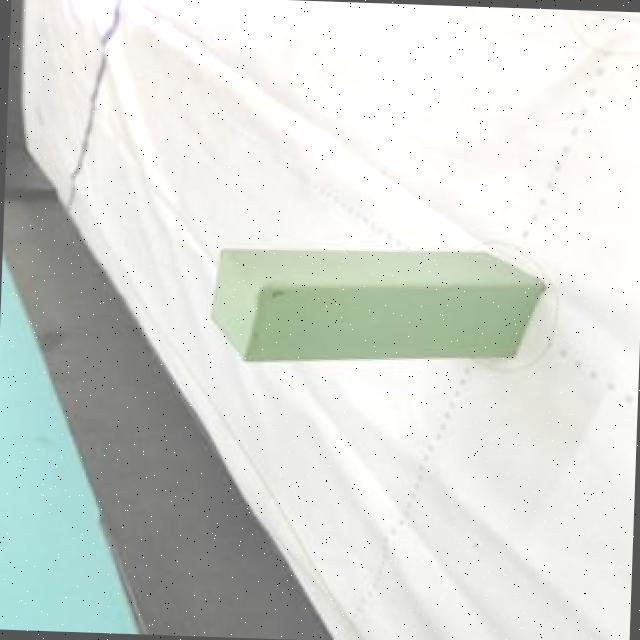greenbox: (206, 238, 552, 376)
